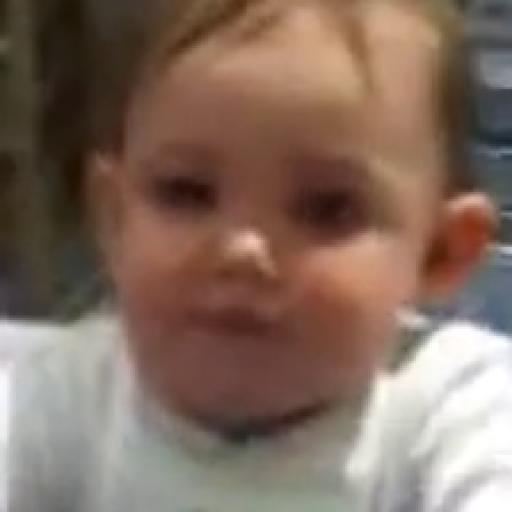Autism: (93, 4, 512, 512)
